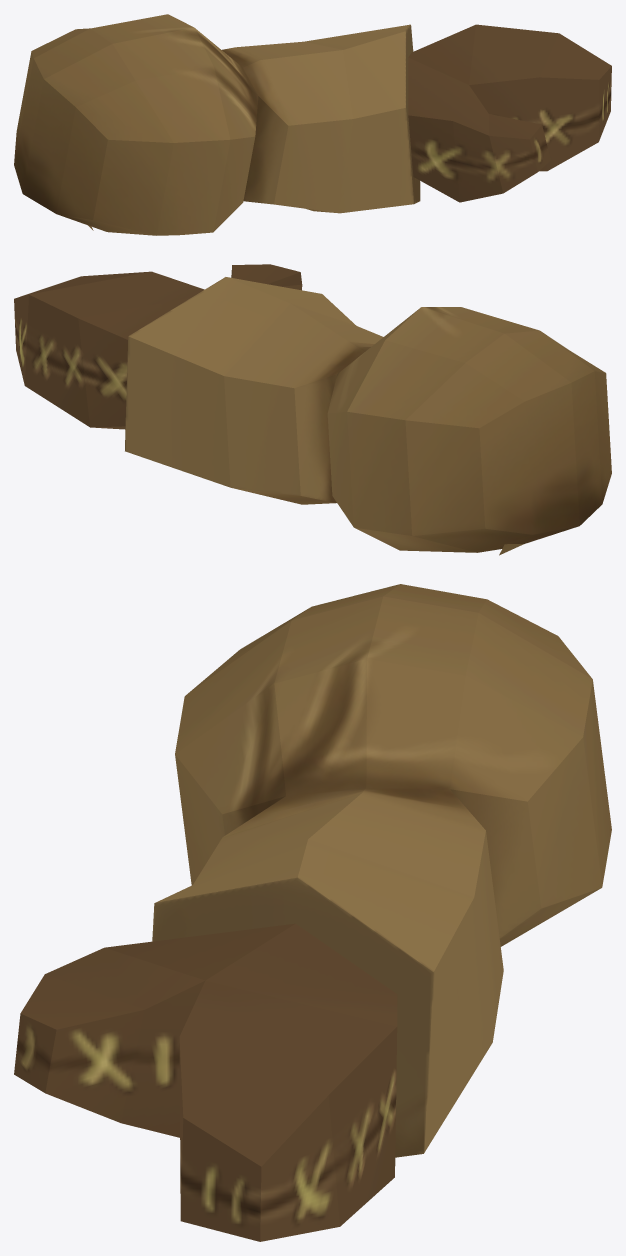
Rendered from arm.glb.
The picture shows the model from 3 angles, top to bottom: view 1: azimuth 30°, elevation 25°; view 2: azimuth 150°, elevation 25°; view 3: azimuth 270°, elevation 25°; orthographic projection. The views are drawn at different scales.
Visible parts, largest first — view 1: body; view 2: body; view 3: body.
Boxes of the visible parts, x1,y1,x2,y2 form: body: [14, 14, 611, 235]; body: [14, 264, 611, 555]; body: [14, 584, 611, 1241].
Bounding box in the file's own units: 0.9282 × 0.3364 × 0.5219.
Materials: 1 (1 with a texture image).
